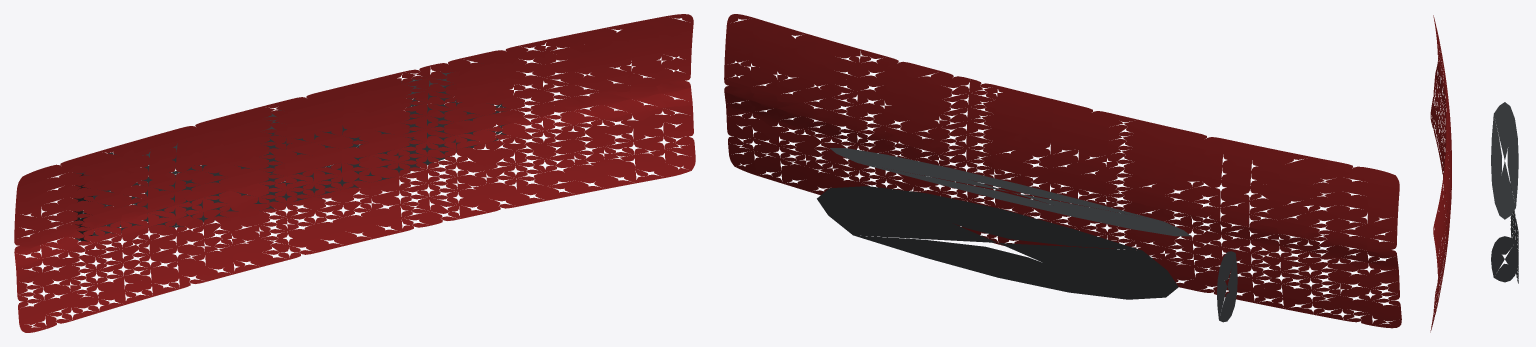
The model's file is front_bumper.glb.
3 views of the same model, side by side, from view 1: azimuth 30°, elevation 25°; view 2: azimuth 150°, elevation 25°; view 3: azimuth 270°, elevation 25° (orthographic). The views are drawn at different scales.
Parts seen in each view (by area): view 1: Front_Bumper_Main_Fascia, Front_Bumper_Central_Air_Intake.001, Front_Bumper_Central_Air_Intake; view 2: Front_Bumper_Main_Fascia, Front_Bumper_Central_Air_Intake.001; view 3: Front_Bumper_Central_Air_Intake.001, Front_Bumper_Main_Fascia, Front_Bumper_Central_Air_Intake.
Boxes of the visible parts, <box> form: Front_Bumper_Main_Fascia: <box>14,14,695,332</box>; Front_Bumper_Central_Air_Intake.001: <box>74,72,476,241</box>; Front_Bumper_Central_Air_Intake: <box>74,62,506,240</box>; Front_Bumper_Main_Fascia: <box>724,14,1401,328</box>; Front_Bumper_Central_Air_Intake.001: <box>817,148,1237,322</box>; Front_Bumper_Central_Air_Intake.001: <box>1491,102,1518,282</box>; Front_Bumper_Main_Fascia: <box>1430,15,1451,332</box>; Front_Bumper_Central_Air_Intake: <box>1510,183,1518,283</box>.
Bounding box in the file's own units: 1.86 × 0.4201 × 0.3273.
